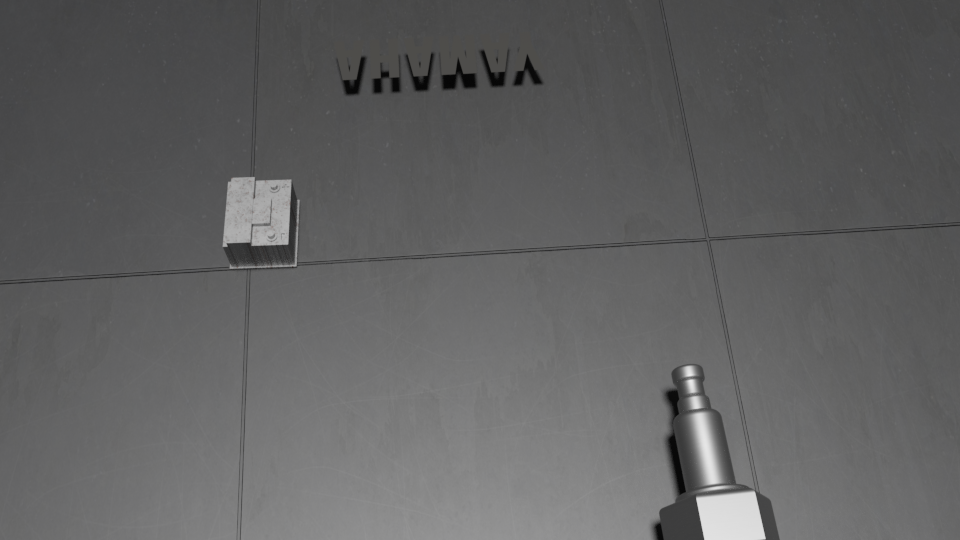yamaha_letters: (333, 30, 545, 80)
